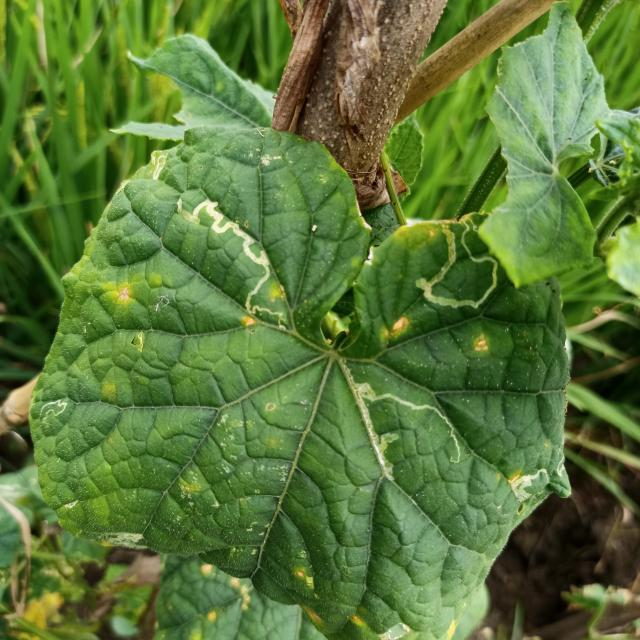disease_cucumber: (380, 316, 409, 341), (296, 567, 316, 594), (472, 334, 490, 354), (116, 284, 132, 306), (268, 286, 284, 302), (244, 315, 256, 329)
